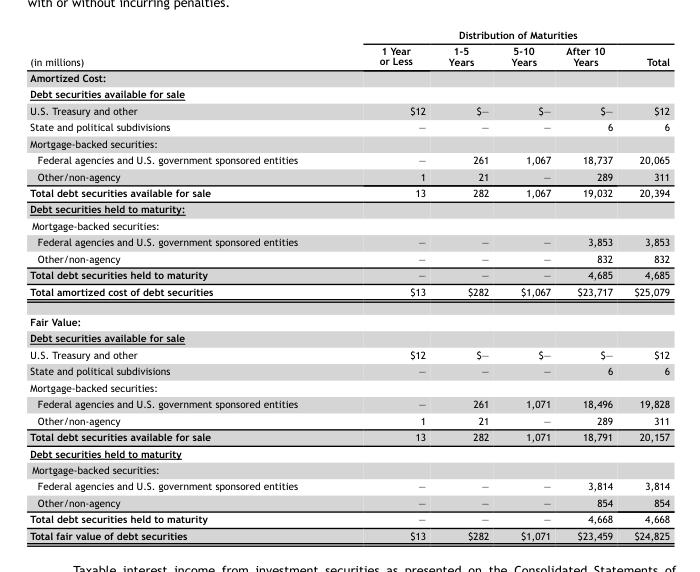table: (29, 28, 669, 540)
table column: (29, 28, 337, 540), (337, 28, 436, 540), (557, 28, 622, 540), (436, 28, 499, 540), (499, 28, 557, 540), (622, 28, 669, 540)
table column header: (29, 28, 669, 69)
table projected row header: (29, 306, 669, 329), (29, 134, 669, 151), (29, 200, 669, 217), (29, 329, 669, 346), (29, 378, 669, 395), (29, 444, 669, 461), (29, 69, 669, 85), (29, 85, 669, 101), (29, 217, 669, 233), (29, 461, 669, 477)
table row: (29, 42, 669, 69), (29, 282, 669, 306), (29, 306, 669, 329), (29, 101, 669, 118), (29, 134, 669, 151), (29, 167, 669, 184), (29, 200, 669, 217), (29, 249, 669, 266), (29, 329, 669, 346), (29, 378, 669, 395), (29, 411, 669, 428), (29, 444, 669, 461), (29, 493, 669, 510), (29, 69, 669, 85), (29, 85, 669, 101), (29, 118, 669, 134), (29, 151, 669, 167), (29, 184, 669, 200), (29, 217, 669, 233), (29, 233, 669, 249), (29, 266, 669, 282), (29, 346, 669, 362), (29, 362, 669, 378), (29, 395, 669, 411), (29, 428, 669, 444), (29, 461, 669, 477), (29, 477, 669, 493), (29, 510, 669, 526), (29, 28, 669, 42), (29, 526, 669, 540)
table spanning cell: (29, 28, 337, 69), (337, 28, 669, 42)
